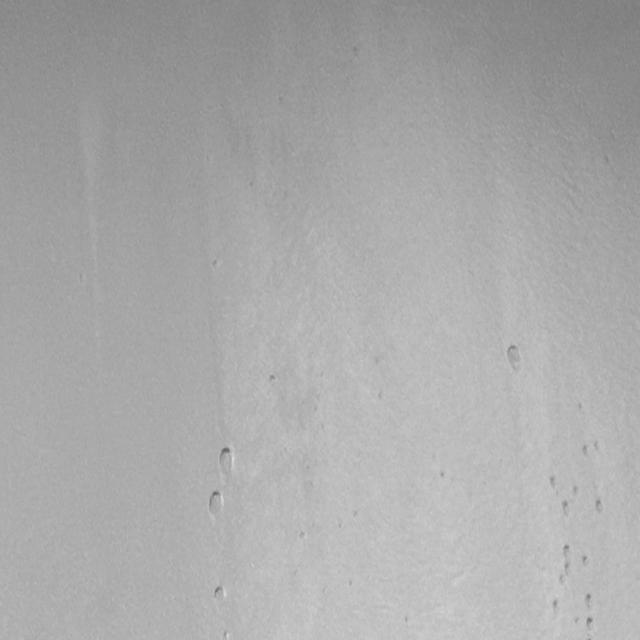pin holes: (503, 343, 526, 375), (214, 446, 235, 480), (206, 489, 226, 518), (212, 583, 230, 605), (558, 499, 573, 520), (580, 440, 595, 460), (593, 497, 607, 516), (585, 614, 598, 633), (583, 592, 596, 610), (266, 372, 280, 388), (551, 597, 563, 615), (548, 474, 560, 492), (579, 551, 591, 568), (561, 543, 573, 558), (572, 484, 584, 498), (376, 390, 386, 406), (439, 465, 447, 483), (299, 527, 307, 545), (221, 628, 233, 638), (353, 507, 361, 520), (404, 613, 412, 626), (350, 578, 356, 592)
